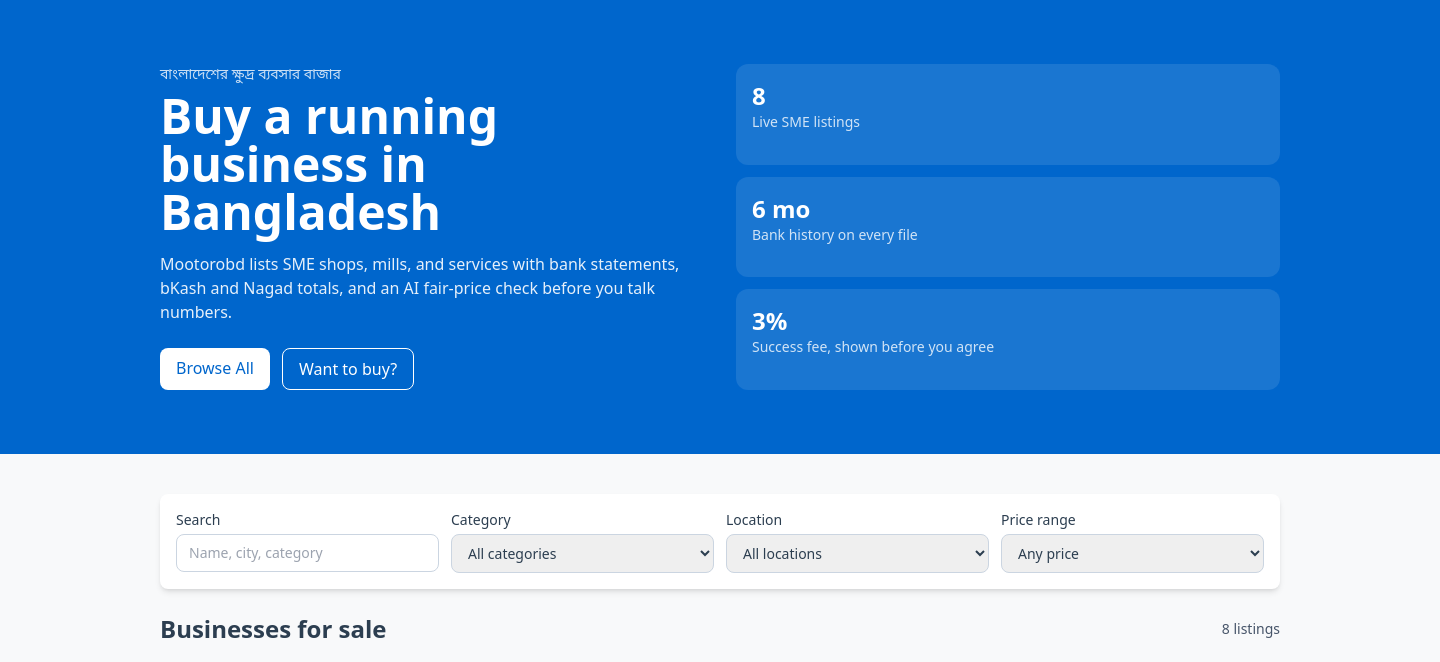
Test: LandingPage › filters to one agriculture listing
The width and height of the screenshot is (1440, 662).
Select "Agriculture" in the dropdown labelled "Category" at (582, 554), box 451,534 -> 714,573
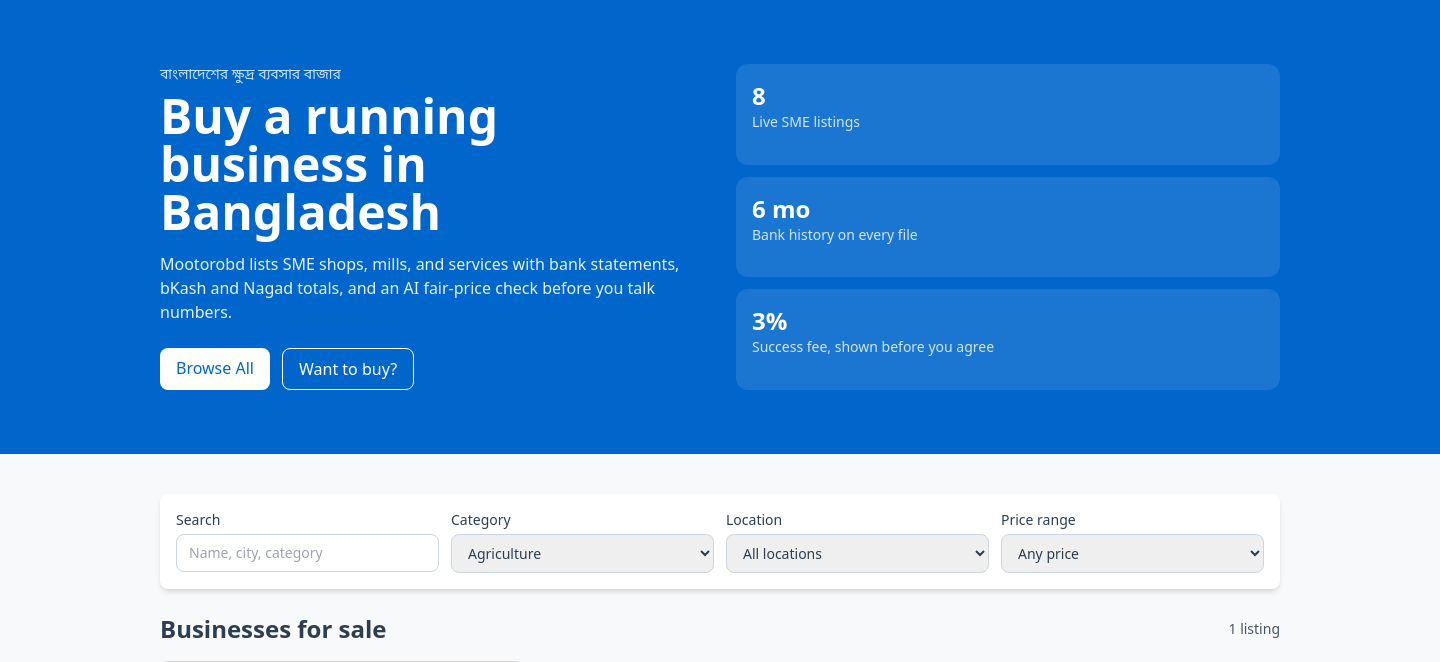
expect the text "1 listing" is shown: met, box 1228,619 -> 1280,639
